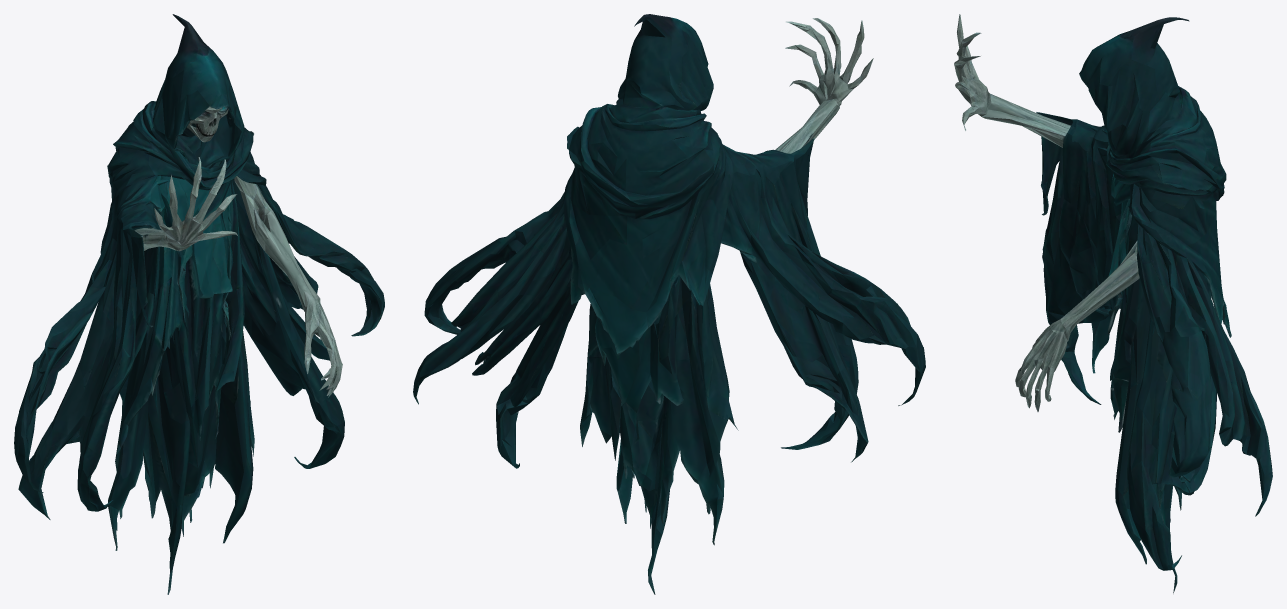
File: wraith.glb
The picture shows the model from 3 angles, left to right: view 1: azimuth 30°, elevation 25°; view 2: azimuth 150°, elevation 25°; view 3: azimuth 270°, elevation 25°; orthographic projection.
Size of the model in its own units: 1.48 by 1.88 by 0.934.
1 material, 1 textured.
